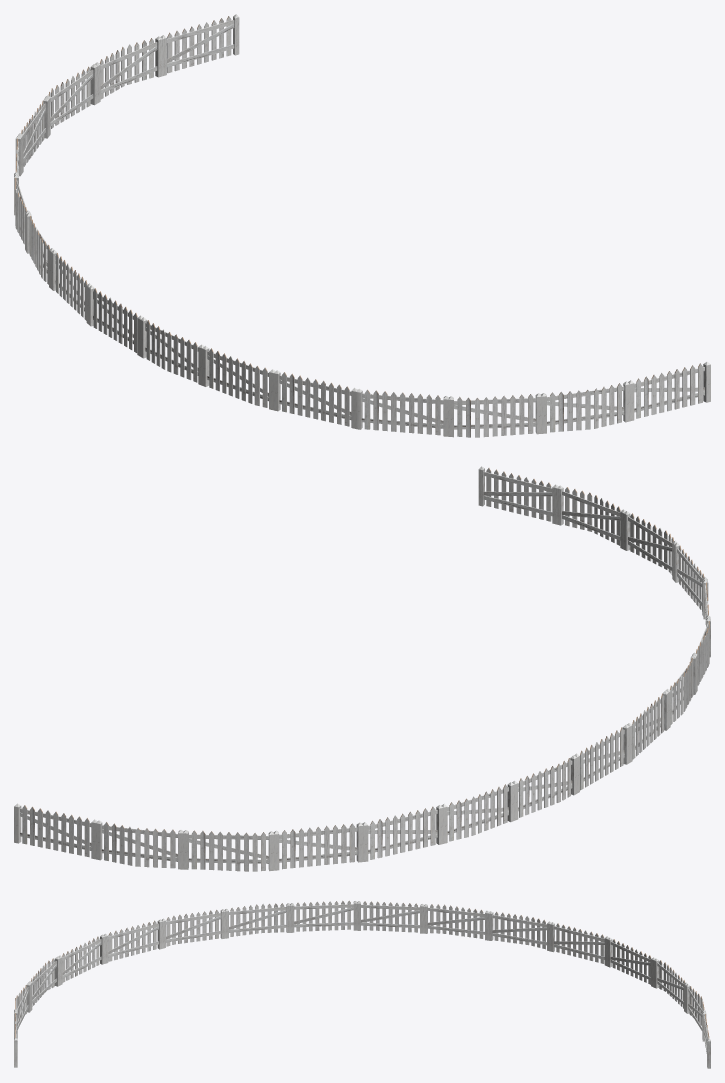
Rendered from Fence4.obj.
3 renders of one model, top to bottom at view 1: azimuth 30°, elevation 25°; view 2: azimuth 150°, elevation 25°; view 3: azimuth 270°, elevation 25°, orthographic. The views are drawn at different scales.
Parts seen in each view (by area): view 1: PoleStyle1Low.010; view 2: PoleStyle1Low.010; view 3: PoleStyle1Low.010.
Boxes of the visible parts, x1,y1,x2,y2 form: PoleStyle1Low.010: (14, 14, 710, 437); PoleStyle1Low.010: (14, 466, 710, 871); PoleStyle1Low.010: (14, 900, 710, 1068).
Bounding box in the file's own units: 34.09 × 3.33 × 71.98.
